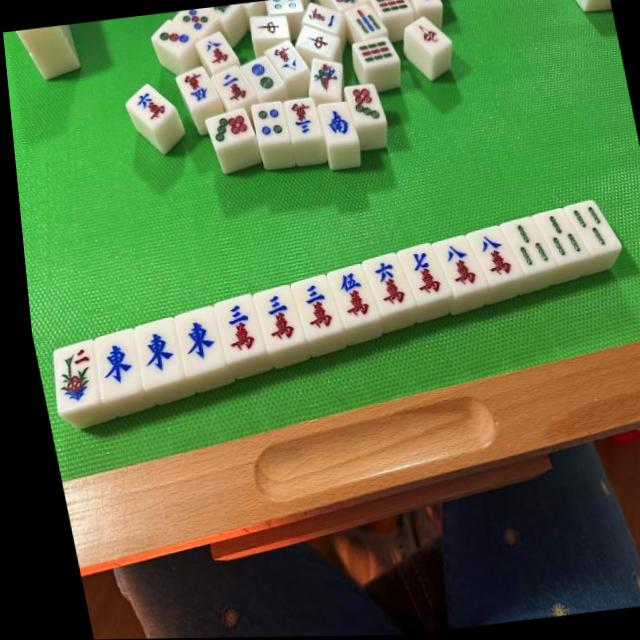bs2: (38, 344, 97, 410)
hwe: (167, 307, 219, 368), (125, 320, 177, 380), (86, 333, 137, 394)
sb3: (502, 216, 548, 273), (533, 210, 579, 266), (563, 201, 607, 254)
sc3: (246, 286, 296, 348), (208, 295, 257, 357), (285, 275, 332, 334)
sc5: (323, 266, 370, 323)
sc6: (358, 255, 405, 312)
sc7: (395, 248, 439, 301)
sc8: (432, 239, 478, 294), (466, 230, 510, 284)
